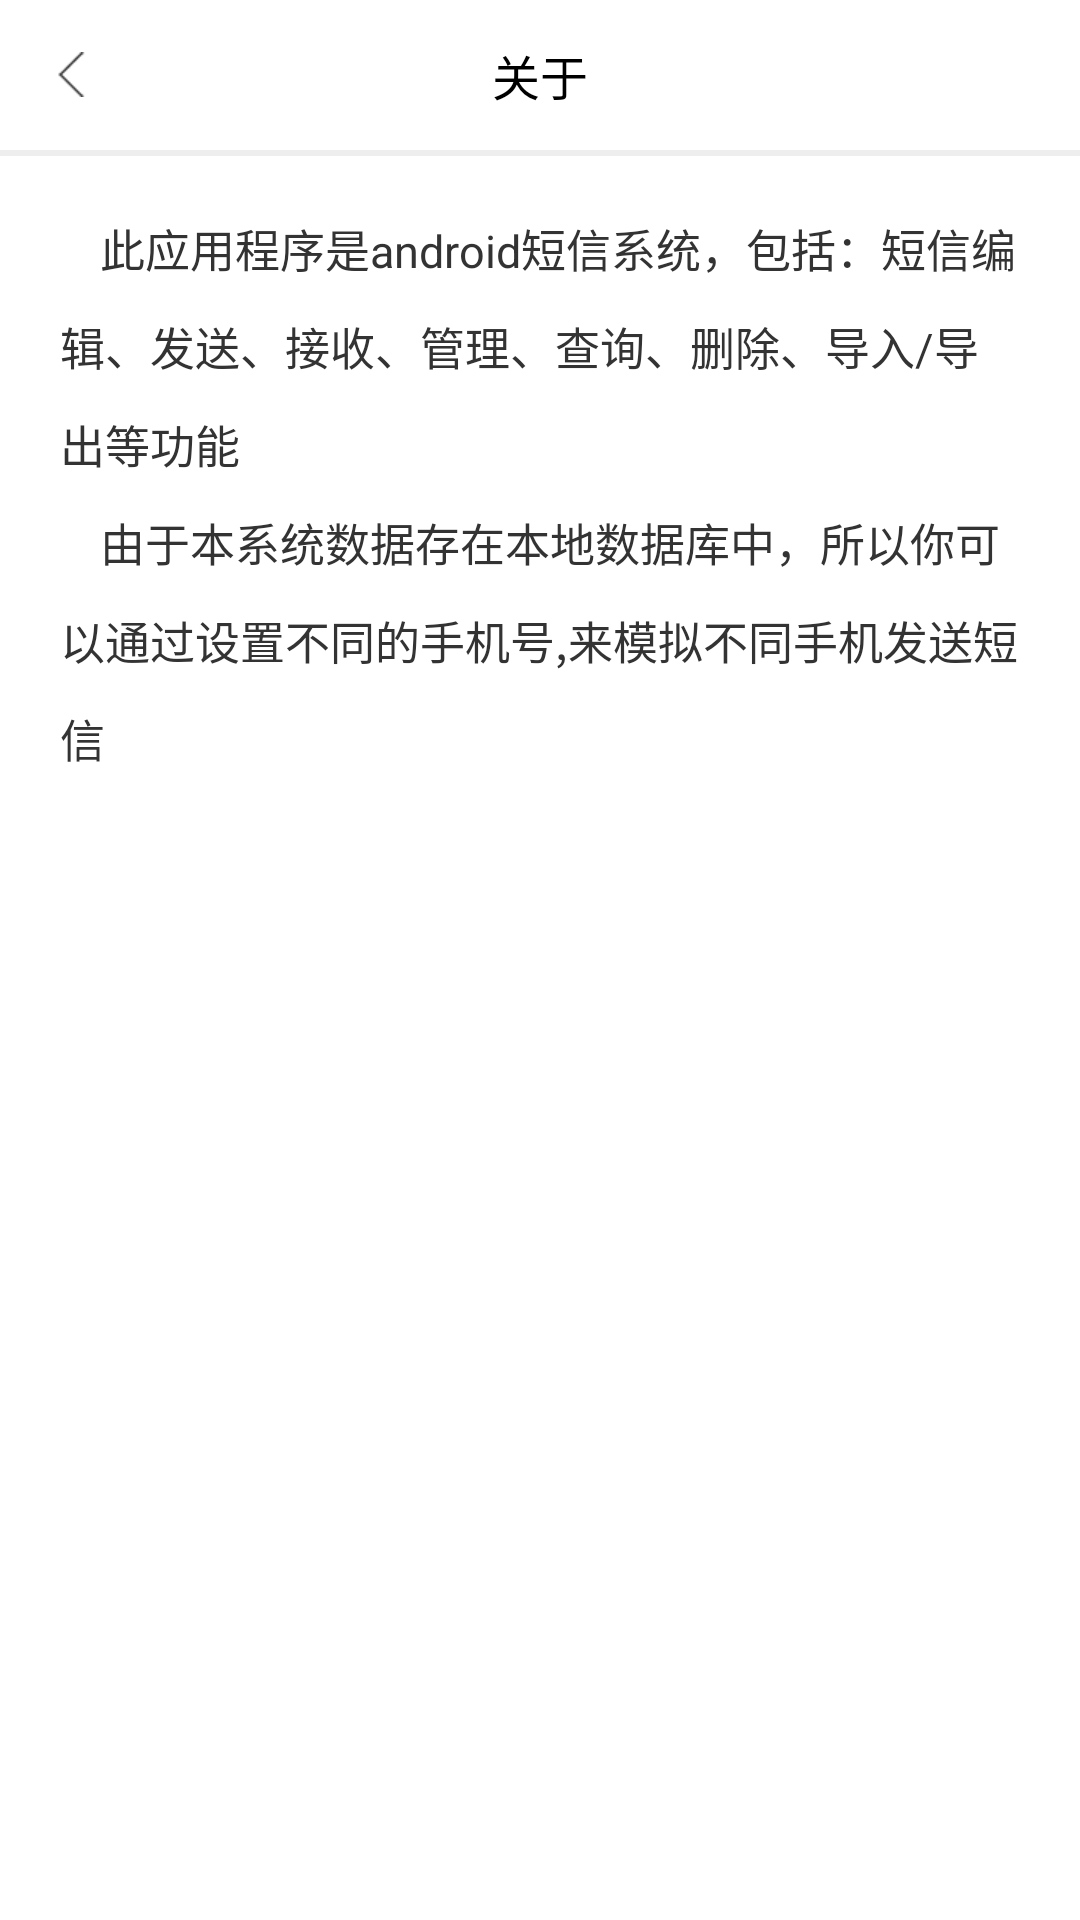

Locate icon controls on the screen. Image size 1080×1920, boxes as (x1, y1, x2, y2).
back: (58, 52, 84, 97)
